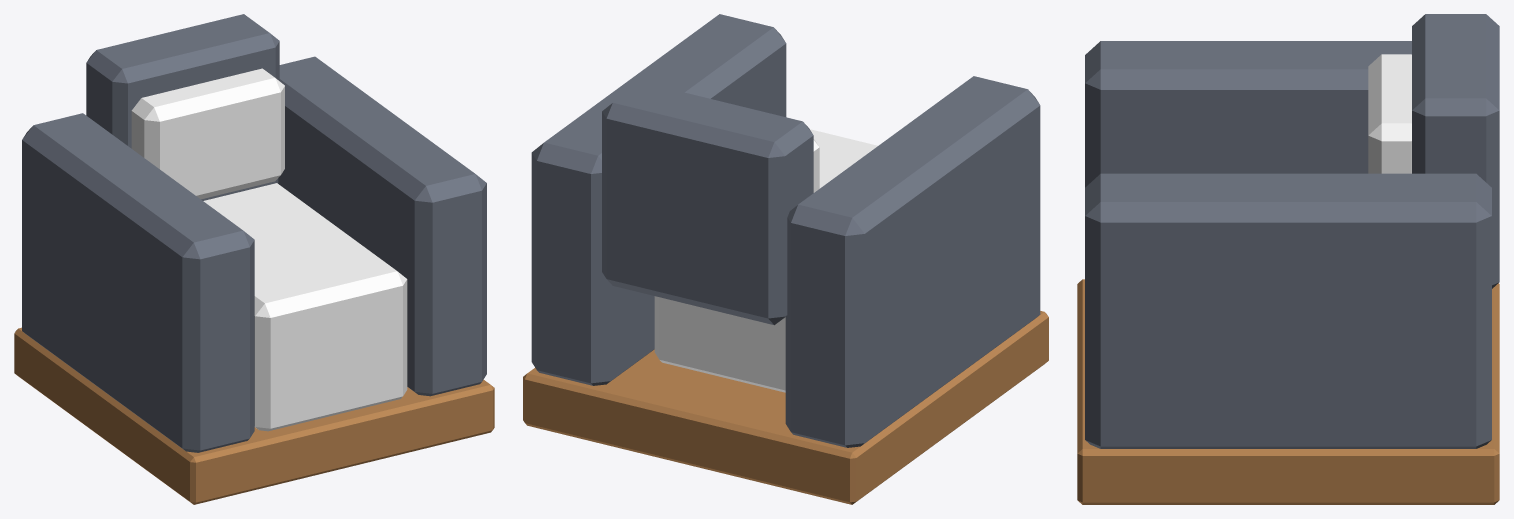
File: armchair-lounge.glb
3 views of the same model, side by side, from view 1: azimuth 30°, elevation 25°; view 2: azimuth 150°, elevation 25°; view 3: azimuth 270°, elevation 25° (orthographic). The views are drawn at different scales.
Parts seen in each view (by area): view 1: armchair-lounge.fabric, armchair-lounge.tint, armchair-lounge.wood; view 2: armchair-lounge.fabric, armchair-lounge.wood, armchair-lounge.tint; view 3: armchair-lounge.fabric, armchair-lounge.wood, armchair-lounge.tint.
Boxes of the visible parts, x1=… form: armchair-lounge.fabric: x1=22, y1=14, x2=486, y2=452; armchair-lounge.tint: x1=131, y1=68, x2=407, y2=431; armchair-lounge.wood: x1=14, y1=327, x2=494, y2=504; armchair-lounge.fabric: x1=531, y1=14, x2=1040, y2=447; armchair-lounge.wood: x1=523, y1=311, x2=1048, y2=504; armchair-lounge.tint: x1=654, y1=129, x2=877, y2=392; armchair-lounge.fabric: x1=1085, y1=14, x2=1499, y2=448; armchair-lounge.wood: x1=1077, y1=279, x2=1499, y2=504; armchair-lounge.tint: x1=1368, y1=54, x2=1411, y2=173.
Bounding box in the file's own units: 0.8 × 0.78 × 0.82.
